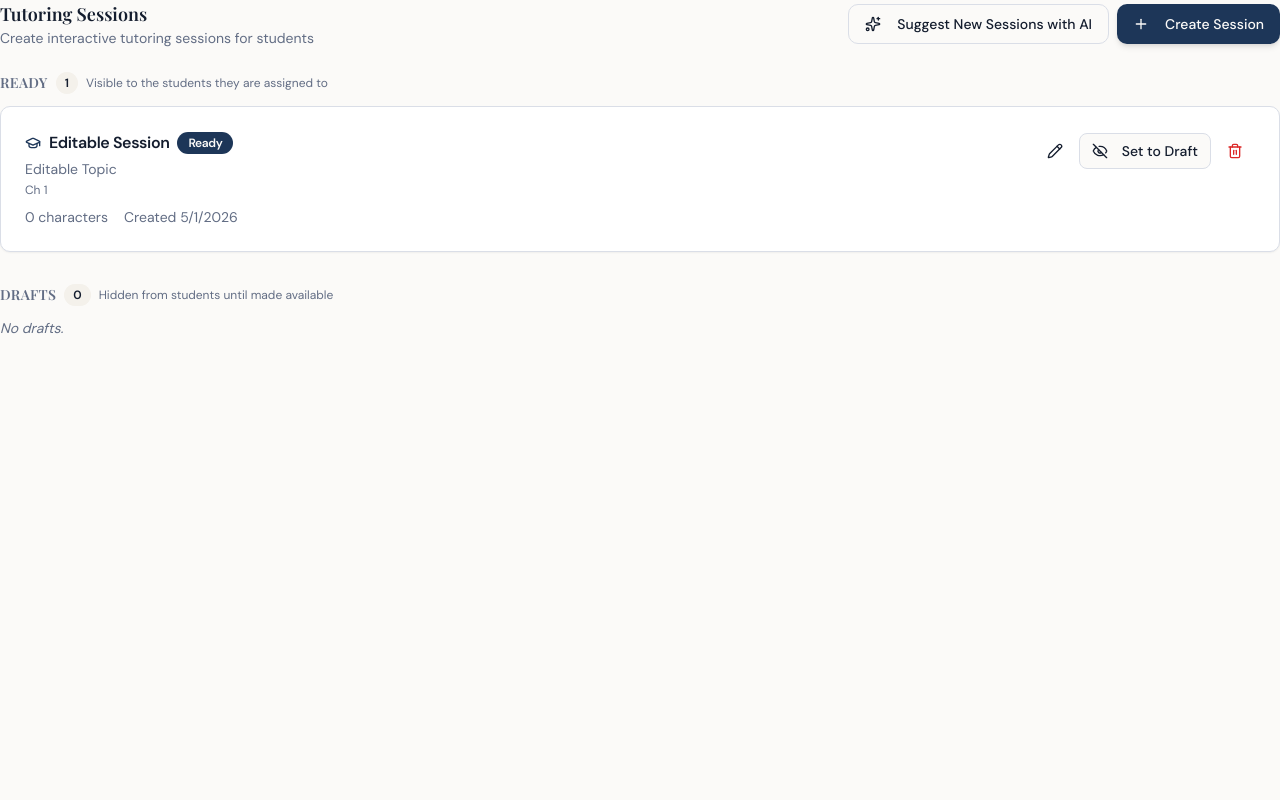
it: StudySessionManager › opens the edit dialog pre-populated with the session's current values
The image size is (1280, 800).
Check: the text "Editable Session" is shown, box [49, 131, 169, 155]
Step 1. Click the button titled "Edit session" → [1055, 151], box [1035, 131, 1075, 171]
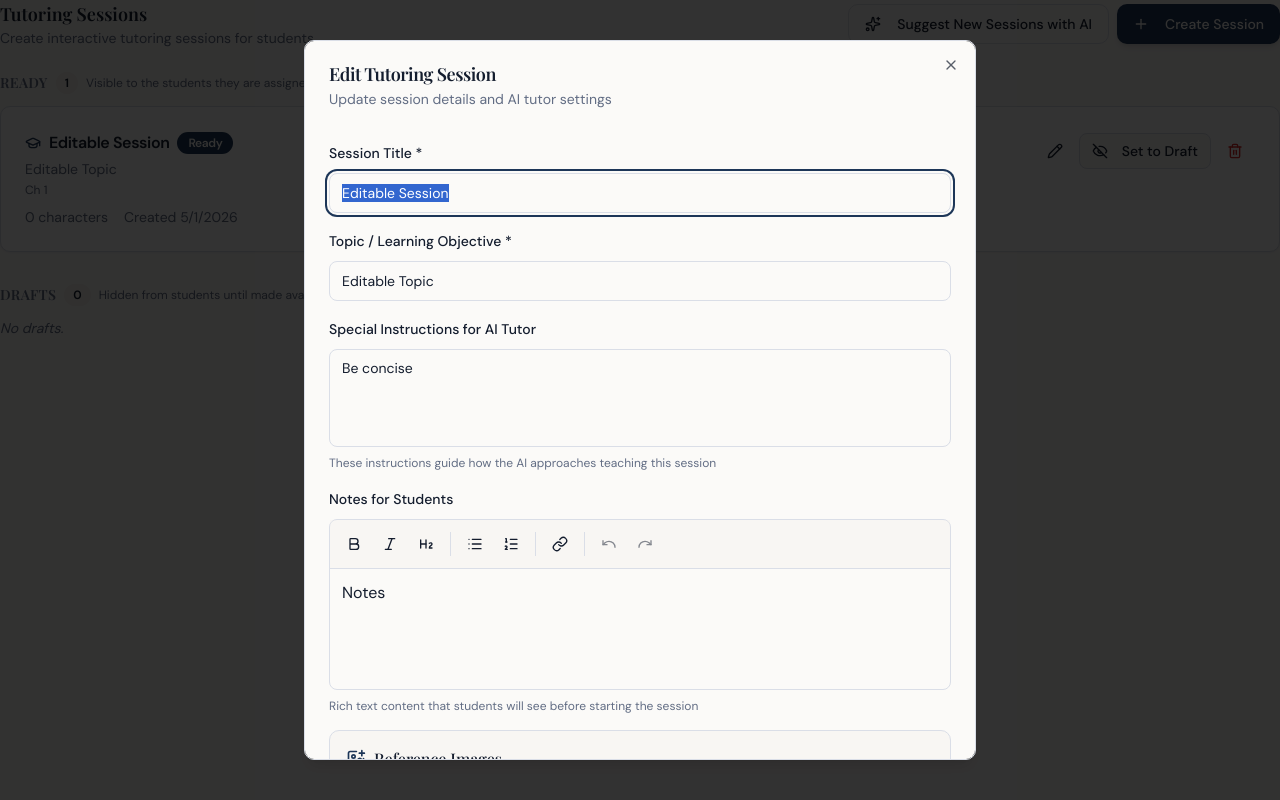
Check: the field labelled "Session Title *" holds "Editable Session", box [329, 173, 951, 213]
Check: the field labelled "Topic / Learning Objective *" holds "Editable Topic", box [329, 261, 951, 301]
Check: the text box labelled "Special Instructions for AI Tutor" holds "Be concise", box [329, 349, 951, 447]
